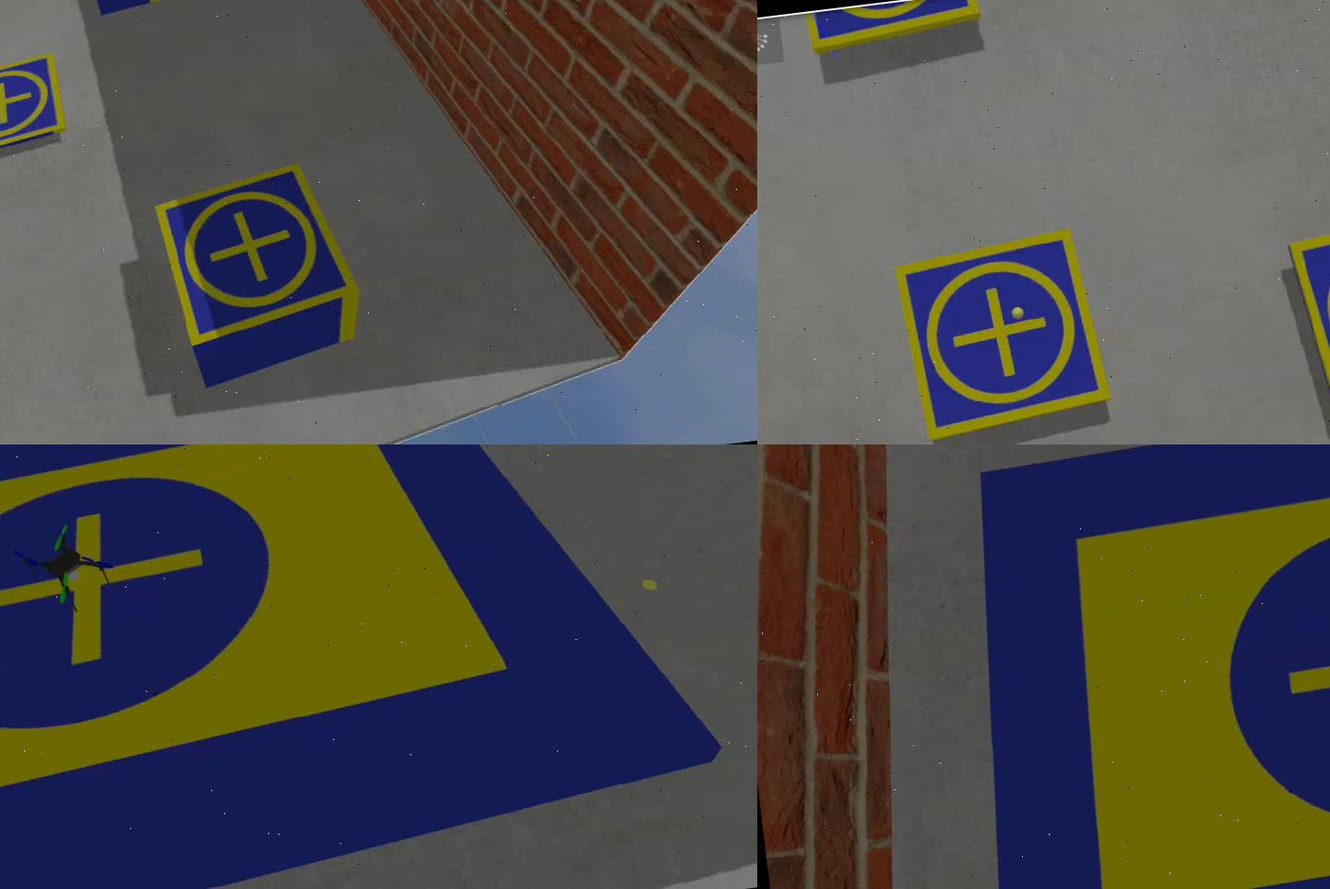large_base: (1, 445, 738, 889), (934, 445, 1330, 889)
small_base: (893, 228, 1117, 445), (153, 158, 368, 350), (807, 1, 986, 51), (1, 53, 69, 164)
